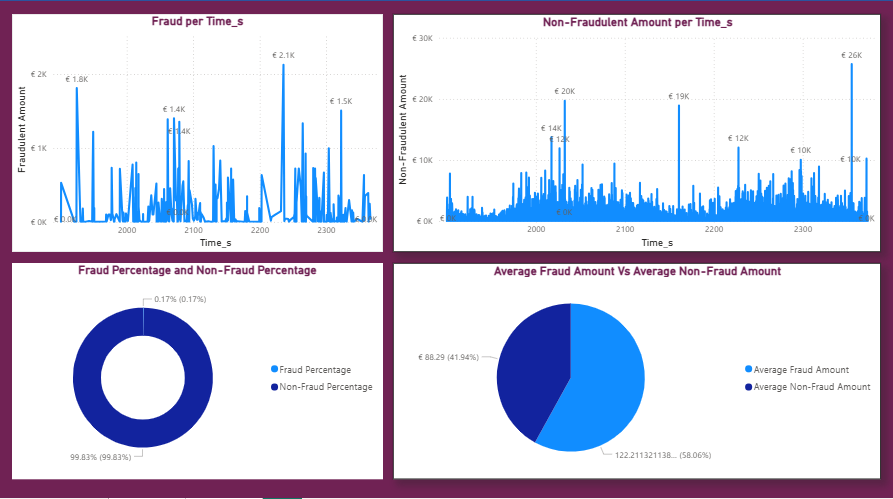

The page's visual inventory and layout, read from the dashboard file:
{"tool":"powerbi","page":{"name":"Page 2","canvas":[1280,720],"ordinal":1},"visuals":[{"type":"shape","box":[0,0,1280,720],"z":0},{"type":"lineChart","title":"Fraud per Time_s","fields":{"Category":["Credit card fraud detection1.Time_s"],"Y":["Credit card fraud detection1.Fraudulent Amount"]},"box":[20,20,530,340],"z":1000},{"type":"donutChart","fields":{"Y":["Credit card fraud detection1.Fraud Percentage","Credit card fraud detection1.Non-Fraud Percentage"]},"box":[20,375.7,530,308.6],"z":2000},{"type":"lineChart","title":"Non-Fraudulent Amount per Time_s","fields":{"Category":["Credit card fraud detection1.Time_s"],"Y":["Credit card fraud detection1.Non-Fraudulent Amount"]},"box":[564.3,20,697.1,340],"z":3000},{"type":"pieChart","title":"Average Fraud Amount Vs Average Non-Fraud Amount","fields":{"Y":["Credit card fraud detection1.Average Fraud Amount","Credit card fraud detection1.Average Non-Fraud Amount"]},"box":[564.3,375.7,697.1,308.6],"z":4000}]}

Visuals, with their boxes in screenshot pixels (x1, y1, x2, y2), scaled from the page's 1280x720 canvas onto the 893x499 screenshot:
shape: region(0, 0, 892, 498)
"Fraud per Time_s" lineChart: region(14, 14, 384, 250)
donutChart - Credit card fraud detection1.Fraud Percentage x Credit card fraud detection1.Non-Fraud Percentage: region(14, 260, 384, 474)
"Non-Fraudulent Amount per Time_s" lineChart: region(394, 14, 880, 250)
"Average Fraud Amount Vs Average Non-Fraud Amount" pieChart: region(394, 260, 880, 474)
